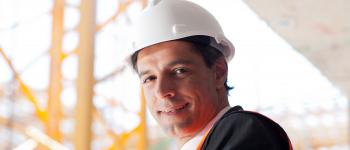casque: (90, 6, 267, 139)
